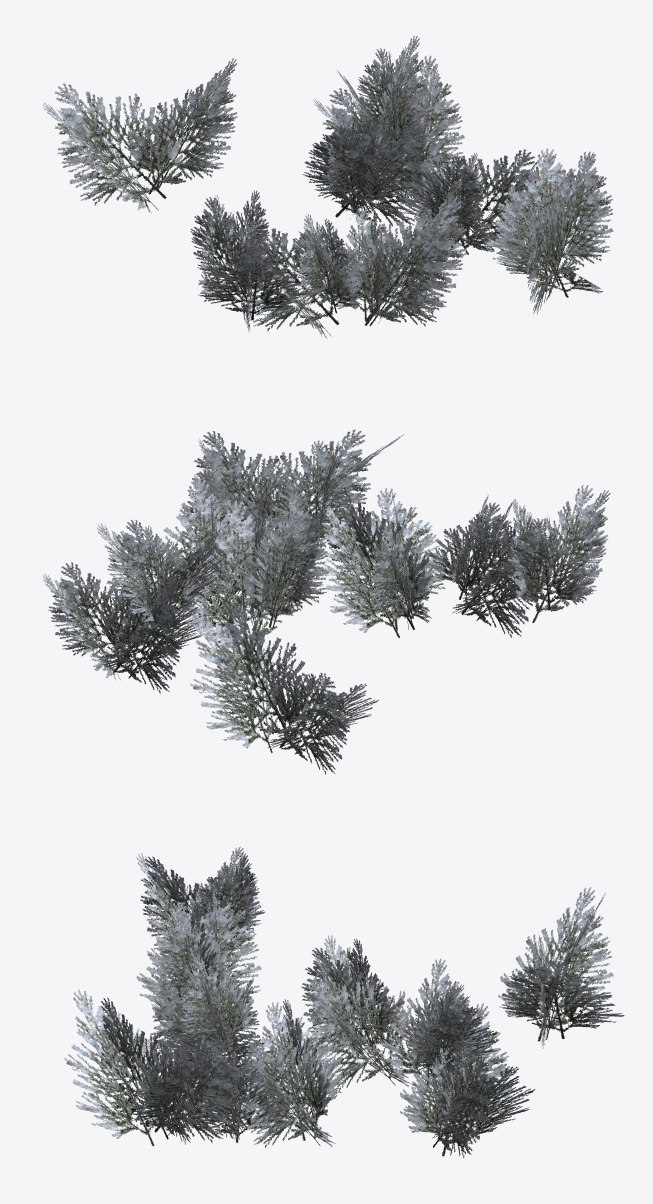
Rendered from SM_EN_2007_guanmu_02.FBX.
3 views of the same model, one above another, from view 1: azimuth 30°, elevation 25°; view 2: azimuth 150°, elevation 25°; view 3: azimuth 270°, elevation 25° (orthographic). The views are drawn at different scales.
Parts seen in each view (by area): view 1: SM_EN_2007_guanmu_02; view 2: SM_EN_2007_guanmu_02; view 3: SM_EN_2007_guanmu_02.
Part boxes in pixels (box(x1,y1,x2,y2)): SM_EN_2007_guanmu_02: box(42, 35, 613, 338); SM_EN_2007_guanmu_02: box(42, 429, 610, 774); SM_EN_2007_guanmu_02: box(64, 846, 624, 1157).
Size of the model in its own units: 569 by 267 by 693.
